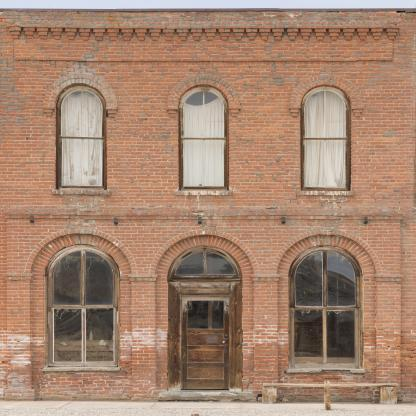Building Outline: (0, 8, 416, 402)
Cornice: (43, 73, 118, 117), (167, 74, 241, 117), (289, 74, 363, 117)
Dont: (261, 381, 399, 410)
Door: (182, 296, 230, 390)
Facade: (0, 8, 416, 402)
Floor Slab: (0, 212, 416, 218)
Ground Floor: (0, 218, 416, 402)
Molding: (8, 25, 401, 41)
Sill: (285, 368, 366, 374), (43, 367, 120, 371), (296, 191, 355, 196), (52, 190, 110, 195), (175, 191, 233, 195)
Top Floor: (0, 40, 416, 212)
Window: (48, 247, 118, 366), (291, 248, 361, 367), (58, 88, 104, 189), (181, 89, 227, 190), (303, 88, 349, 189), (169, 247, 240, 278)
